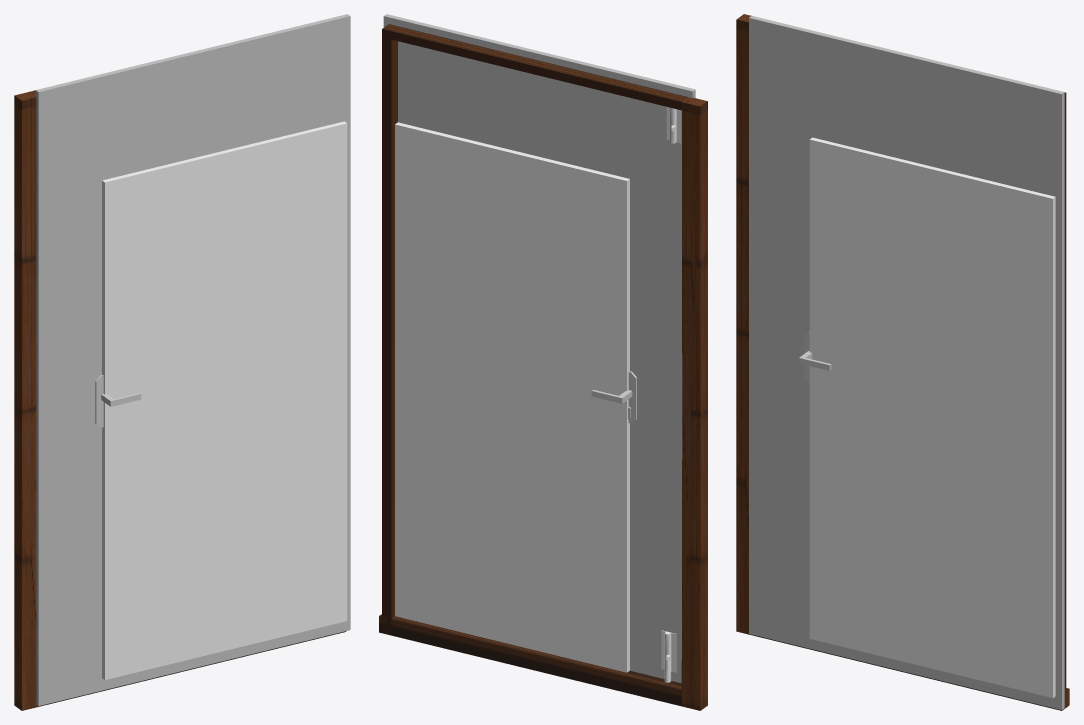
File: Дверь.fbx
3 views of the same model, side by side, from view 1: azimuth 30°, elevation 25°; view 2: azimuth 150°, elevation 25°; view 3: azimuth 330°, elevation 25° (orthographic).
Visible parts, largest first — view 1: Дверь, Основная_Дверь, Створка, Рамка_Двери; view 2: Дверь, Рамка_Двери, Основная_Дверь, Створка, Box534, Box536; view 3: Дверь, Основная_Дверь, Створка, Рамка_Двери.
Part boxes in pixels (x1,y1,x2,y2): Дверь: (102, 121, 347, 679); Основная_Дверь: (76, 14, 350, 696); Створка: (35, 80, 78, 705); Рамка_Двери: (14, 90, 346, 710); Дверь: (395, 122, 629, 672); Рамка_Двери: (379, 24, 707, 710); Основная_Дверь: (383, 14, 655, 676); Створка: (653, 80, 695, 683); Box534: (661, 630, 676, 682); Box536: (666, 107, 681, 143); Дверь: (809, 137, 1055, 697); Основная_Дверь: (789, 25, 1064, 709); Створка: (749, 16, 791, 643); Рамка_Двери: (736, 14, 1069, 710).
Size of the model in its own units: 135 by 243 by 18.17.
Materials: 5 (1 with a texture image).
